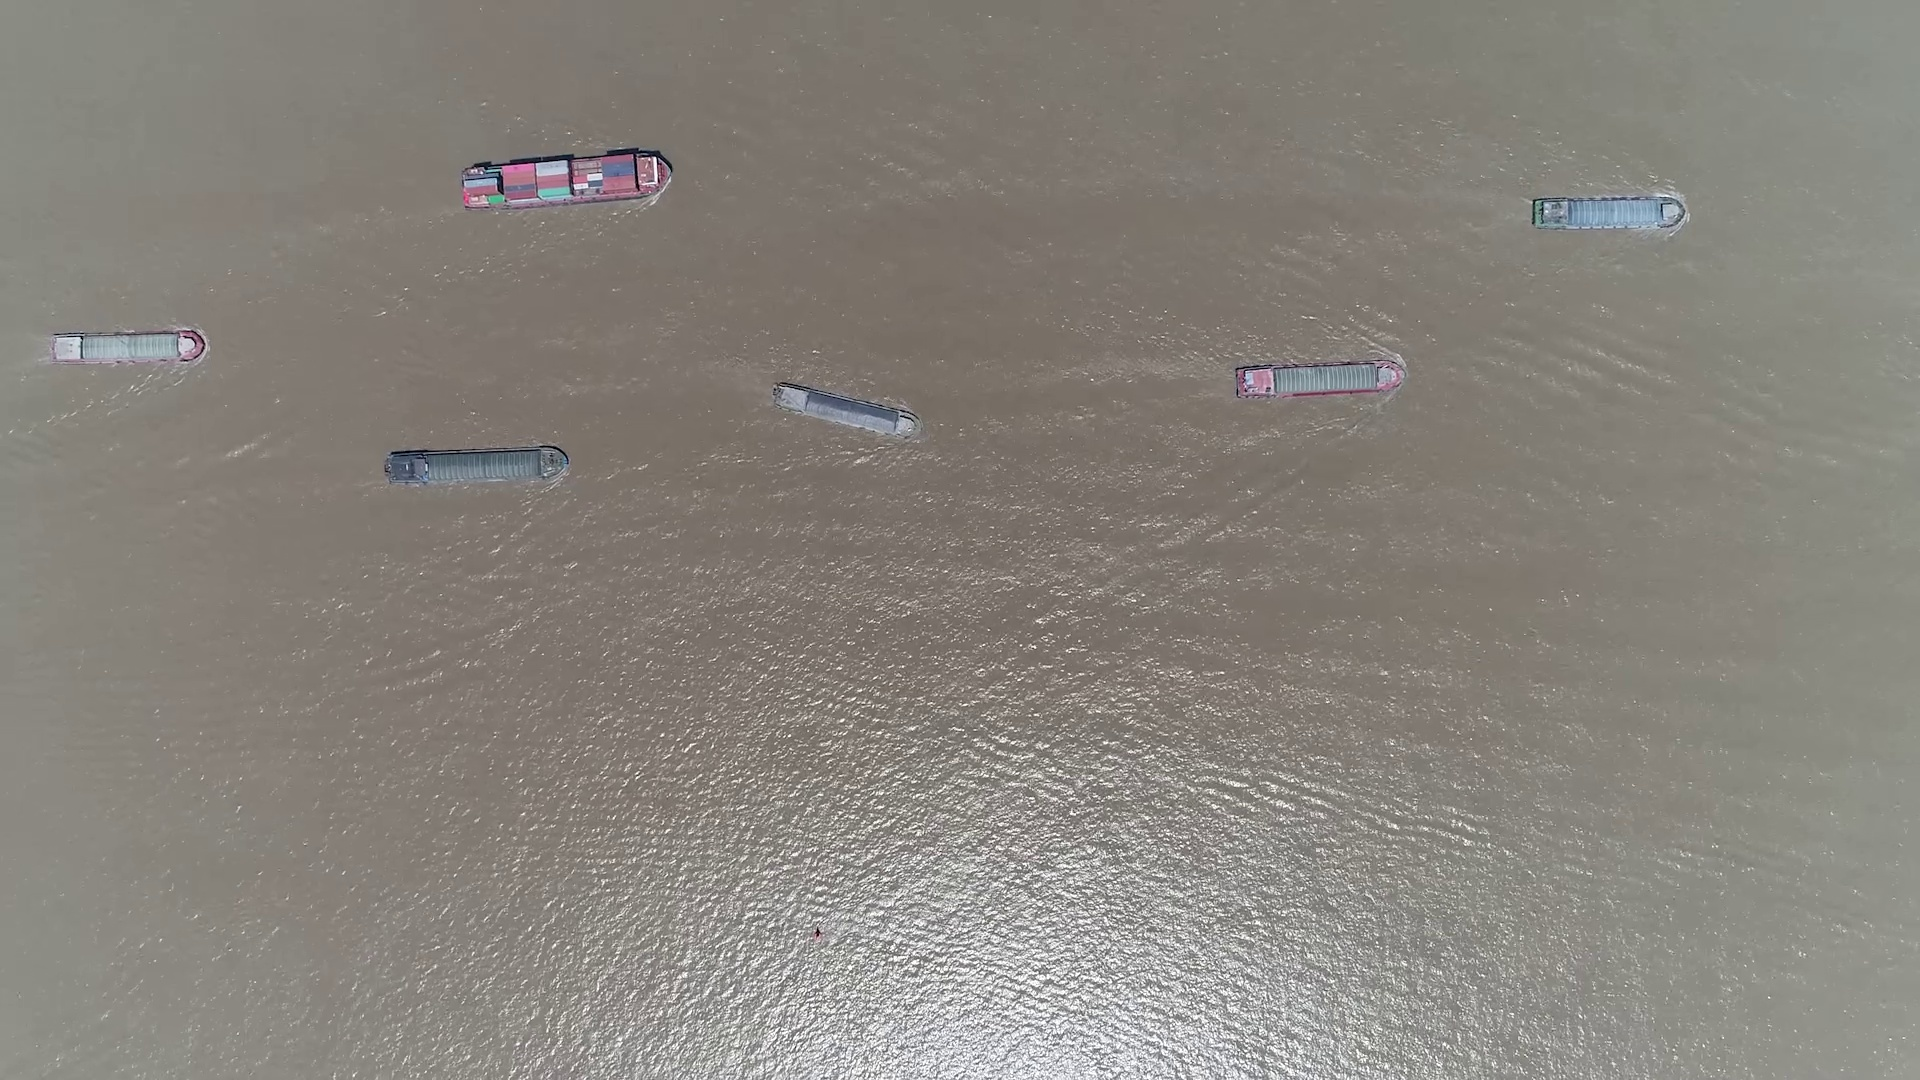ship: (460, 152, 673, 208), (771, 382, 919, 439), (382, 447, 567, 485), (1236, 360, 1404, 400), (47, 331, 204, 364), (1531, 196, 1684, 229)
